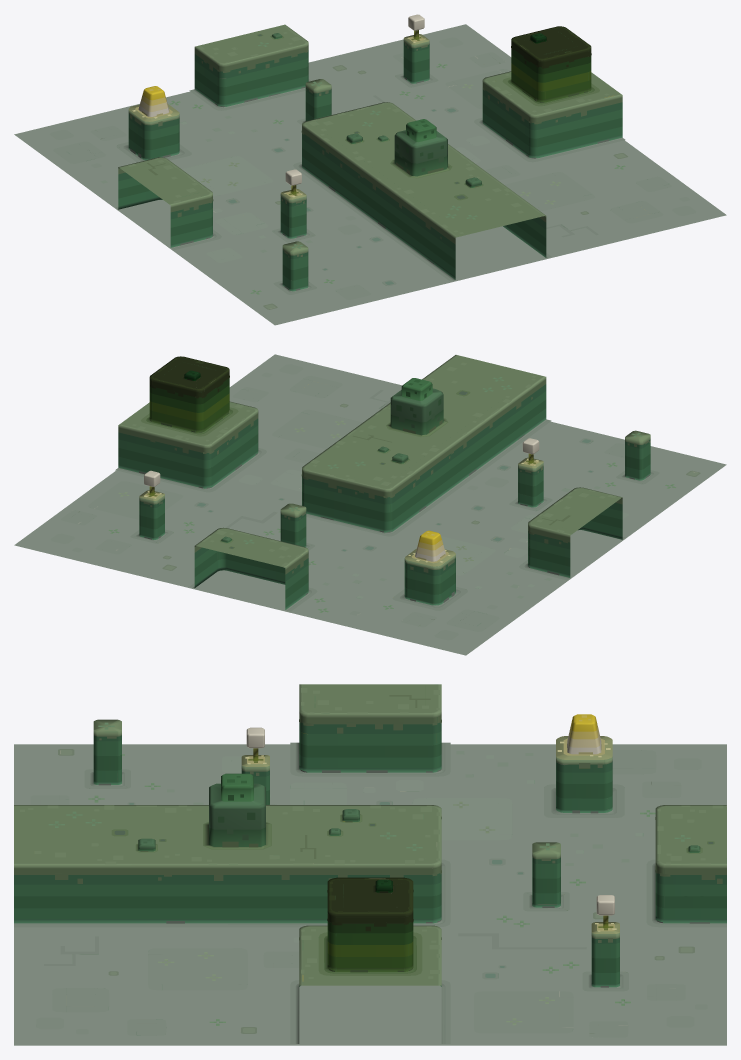
The model's file is C_cave2_07.fbx.
3 renders of one model, top to bottom at view 1: azimuth 30°, elevation 25°; view 2: azimuth 150°, elevation 25°; view 3: azimuth 270°, elevation 25°, orthographic. The views are drawn at different scales.
Parts seen in each view (by area): view 1: C_cave2_07; view 2: C_cave2_07; view 3: C_cave2_07.
Part boxes in pixels (box(x1,y1,x2,y2)): C_cave2_07: box(14, 14, 726, 325); C_cave2_07: box(14, 354, 726, 655); C_cave2_07: box(14, 684, 726, 1045).
Size of the model in its own units: 50 by 9.88 by 50.
1 material, 1 textured.
